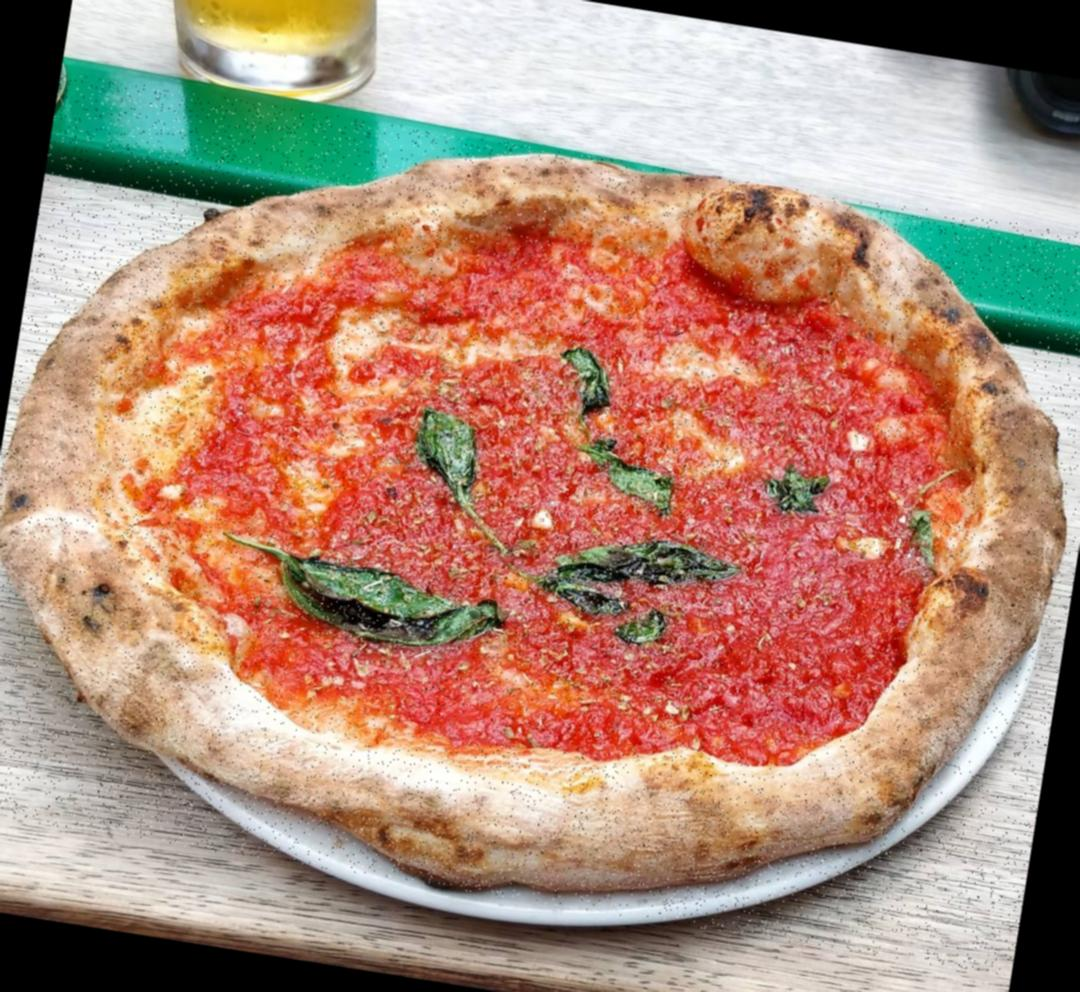Basil: (278, 542, 499, 663), (525, 515, 721, 648), (416, 396, 494, 503), (579, 439, 688, 510), (752, 450, 834, 515), (563, 343, 619, 413), (911, 506, 945, 564)
Pizza: (0, 71, 1080, 977)
